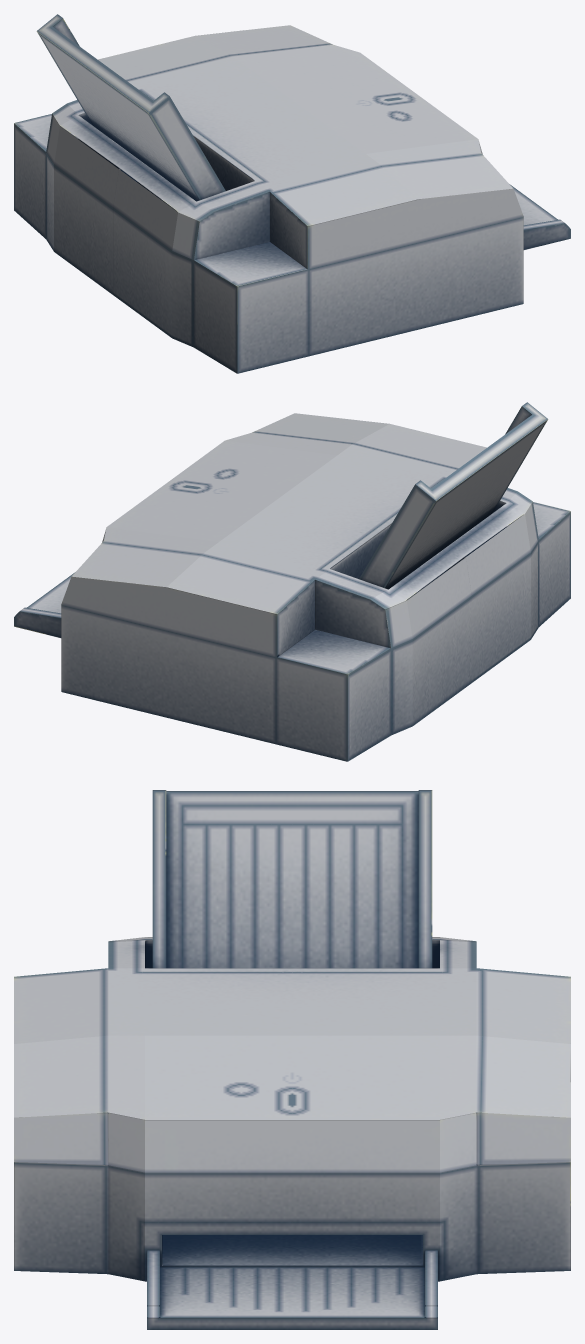
Rendered from printer.obj.
3 renders of one model, top to bottom at view 1: azimuth 30°, elevation 25°; view 2: azimuth 150°, elevation 25°; view 3: azimuth 270°, elevation 25°, orthographic. The views are drawn at different scales.
Parts seen in each view (by area): view 1: Printer; view 2: Printer; view 3: Printer.
Boxes of the visible parts, x1,y1,x2,y2 form: Printer: [14, 14, 570, 373]; Printer: [14, 402, 570, 761]; Printer: [14, 790, 570, 1329].
Bounding box in the file's own units: 7.05 × 3.85 × 6.49.
1 material, 1 textured.
